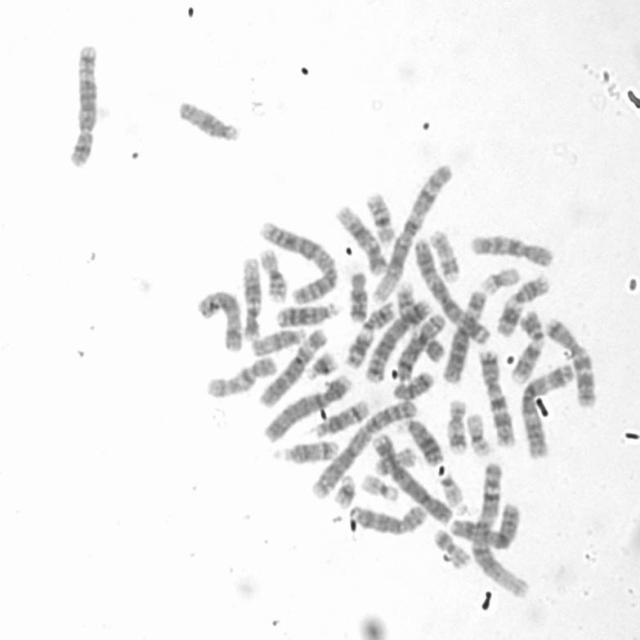A1: (369, 158, 457, 304), (467, 457, 531, 600)
A2: (306, 394, 419, 502), (255, 214, 342, 305)
A3: (410, 232, 490, 344), (518, 358, 576, 460)
B4: (368, 428, 454, 528), (259, 369, 355, 443)
B5: (362, 294, 435, 384), (64, 38, 100, 168)
C10: (203, 350, 280, 400), (466, 229, 556, 268)
C11: (342, 296, 398, 370), (494, 270, 552, 338)
C12: (333, 200, 389, 276), (239, 254, 264, 341)
C6: (254, 322, 329, 409), (439, 284, 490, 386)
C7: (539, 311, 600, 410), (475, 344, 517, 448)
C8: (392, 309, 447, 383), (346, 499, 429, 536)
C9: (393, 278, 446, 364), (506, 304, 547, 386)
D13: (397, 413, 445, 467), (272, 297, 340, 328)
D14: (310, 394, 371, 439), (270, 436, 341, 465)
D15: (174, 94, 243, 144), (247, 322, 309, 358)
E16: (362, 187, 399, 246), (255, 243, 290, 303)
E17: (426, 225, 463, 284), (443, 394, 469, 456)
E18: (344, 266, 370, 324), (389, 368, 436, 400)
F19: (477, 262, 522, 296), (464, 408, 494, 458)
F20: (430, 524, 473, 569), (370, 442, 418, 477)
G21: (301, 346, 340, 381), (330, 470, 358, 510)
G22: (358, 470, 402, 502), (437, 469, 465, 508)
X: (447, 498, 522, 550), (193, 286, 245, 353)
